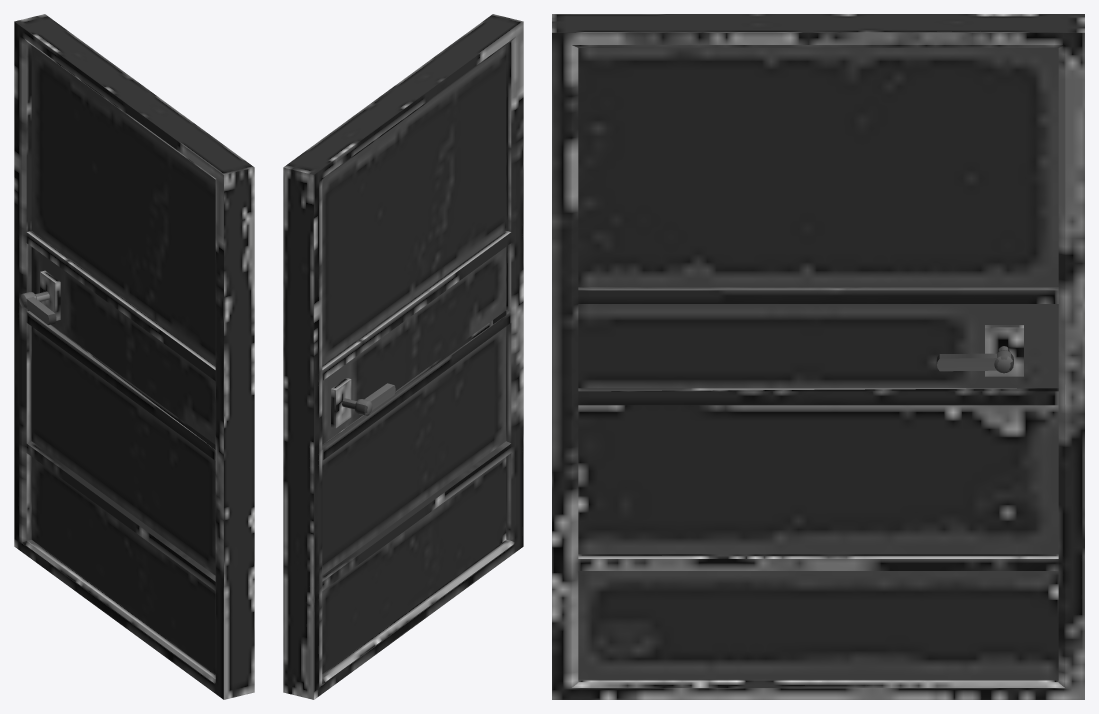
Rendered from door wall delegate.fbx.
3 views of the same model, side by side, from view 1: azimuth 30°, elevation 25°; view 2: azimuth 150°, elevation 25°; view 3: azimuth 270°, elevation 25° (orthographic). The views are drawn at different scales.
Parts seen in each view (by area): view 1: Cube.037; view 2: Cube.037; view 3: Cube.037.
Part boxes in pixels (x1,y1,x2,y2): Cube.037: [14, 14, 254, 699]; Cube.037: [283, 14, 523, 699]; Cube.037: [552, 14, 1084, 699].
Bounding box in the file's own units: 37.29 × 245 × 178.
